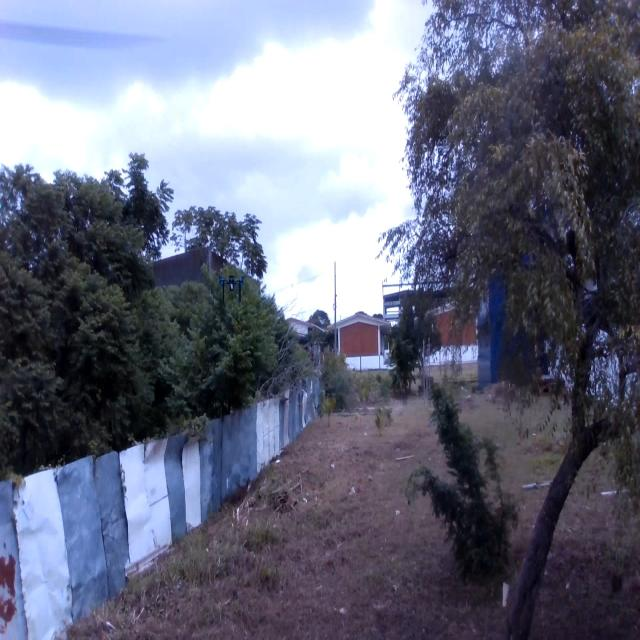-uav-: (211, 260, 249, 304)
